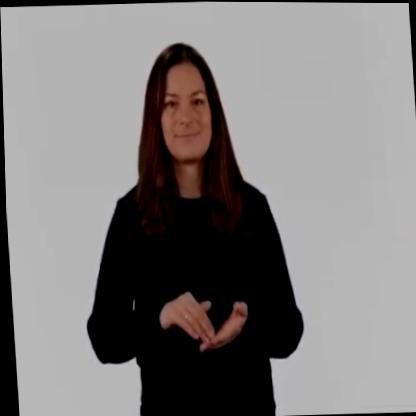ExcuseMe: (149, 254, 247, 367)
